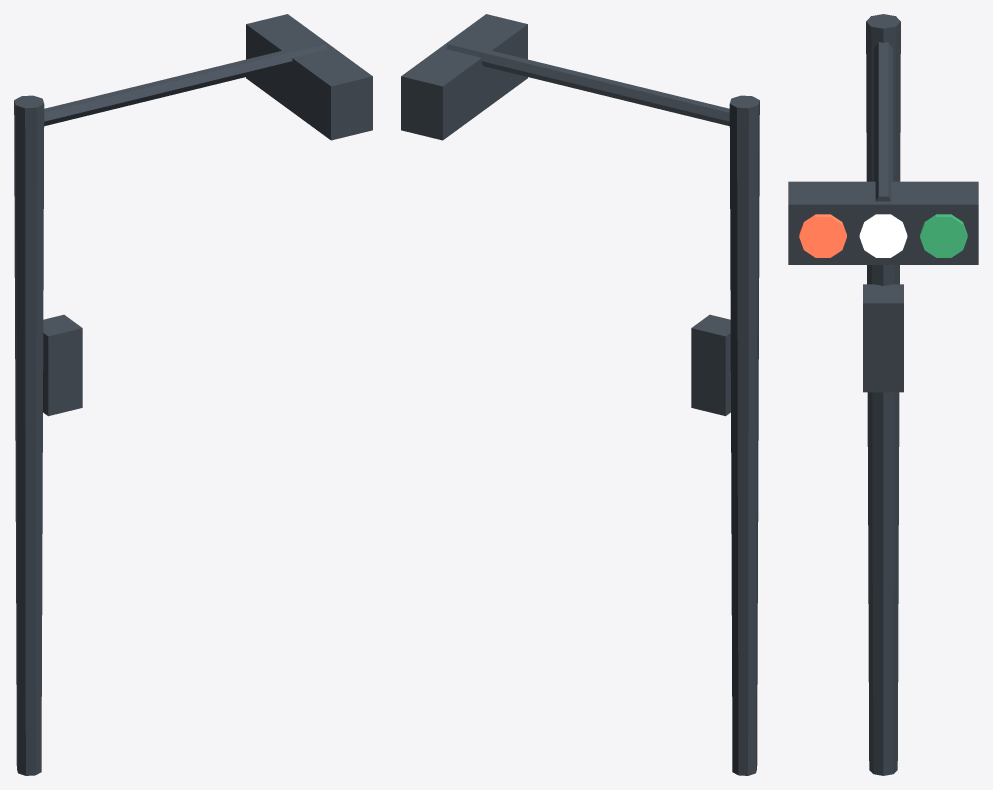
The model's file is prop_signal.glb.
3 views of the same model, side by side, from view 1: azimuth 30°, elevation 25°; view 2: azimuth 150°, elevation 25°; view 3: azimuth 270°, elevation 25° (orthographic). The views are drawn at different scales.
Visible parts, largest first — view 1: post.277, housing.001, arm.003, ped_housing.001; view 2: post.277, housing.001, arm.003, ped_housing.001; view 3: post.277, housing.001, ped_housing.001, arm.003, lamp.004, lamp.003, lamp.005.
Boxes of the visible parts, x1,y1,x2,y2 form: post.277: (14, 95, 44, 775); housing.001: (246, 14, 372, 140); arm.003: (44, 41, 327, 125); ped_housing.001: (43, 314, 82, 416); post.277: (729, 95, 759, 775); housing.001: (401, 14, 527, 140); arm.003: (446, 41, 729, 125); ped_housing.001: (691, 314, 730, 416); post.277: (866, 14, 900, 775); housing.001: (788, 181, 978, 264); ped_housing.001: (863, 284, 903, 392); arm.003: (874, 42, 892, 201); lamp.004: (859, 214, 907, 257); lamp.003: (799, 214, 846, 257); lamp.005: (920, 214, 967, 257).
Bounding box in the file's own units: 2.6 × 5.2 × 1.2.
